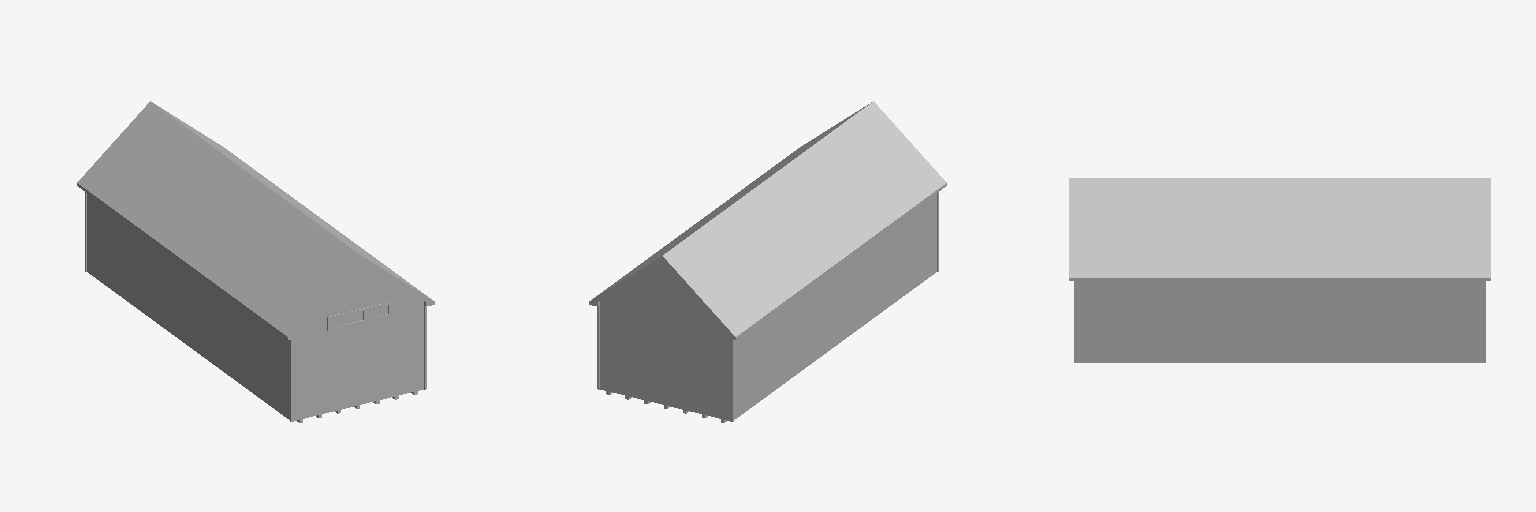
The model's file is Elite Garage_14x36.obj.
3 views of the same model, side by side, from view 1: azimuth 30°, elevation 25°; view 2: azimuth 150°, elevation 25°; view 3: azimuth 270°, elevation 25° (orthographic).
Visible parts, largest first — view 1: Elite Garage_14x36.obj; view 2: Elite Garage_14x36.obj; view 3: Elite Garage_14x36.obj.
Boxes of the visible parts, <box> form: Elite Garage_14x36.obj: <box>77,101,434,422</box>; Elite Garage_14x36.obj: <box>589,101,946,422</box>; Elite Garage_14x36.obj: <box>1069,178,1490,362</box>.
Bounding box in the file's own units: 4.52 × 4.57 × 11.28.